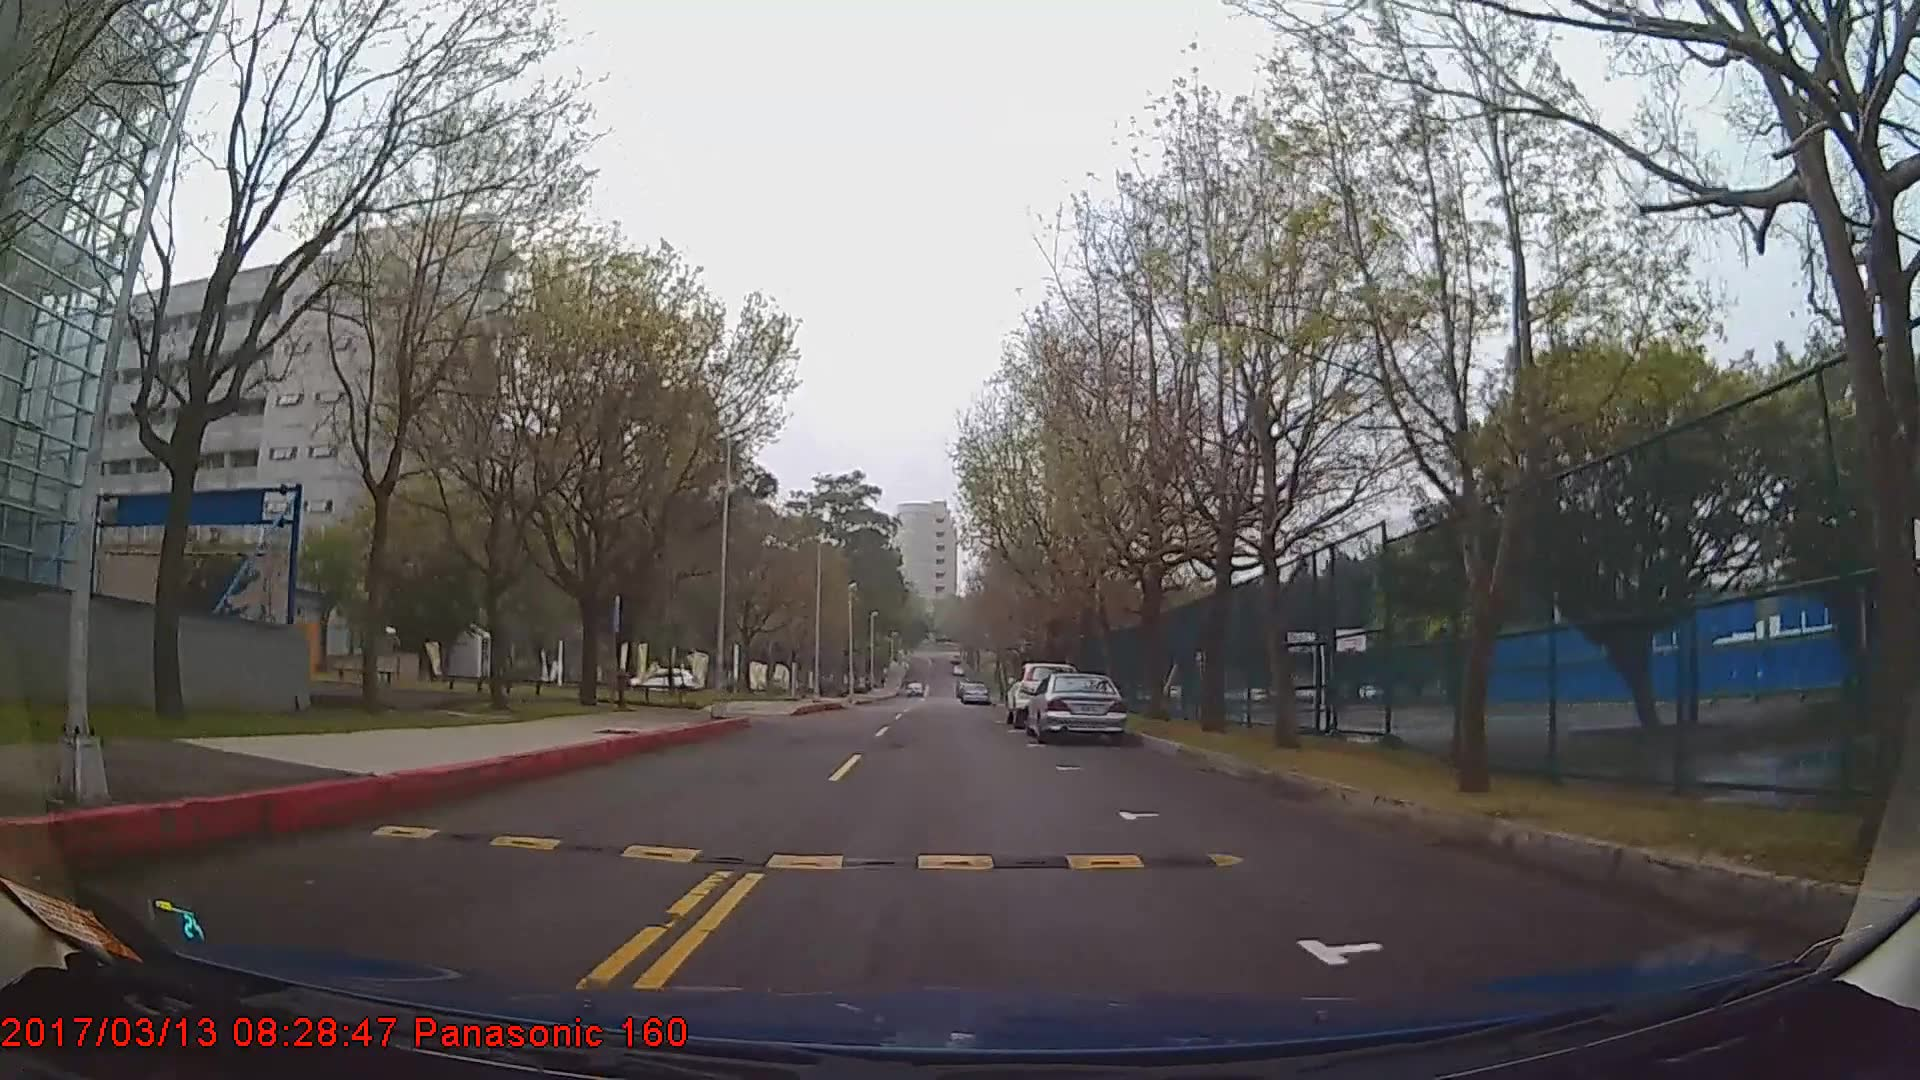vehicle: (1025, 671, 1127, 740), (1004, 662, 1077, 729), (957, 676, 990, 702)
